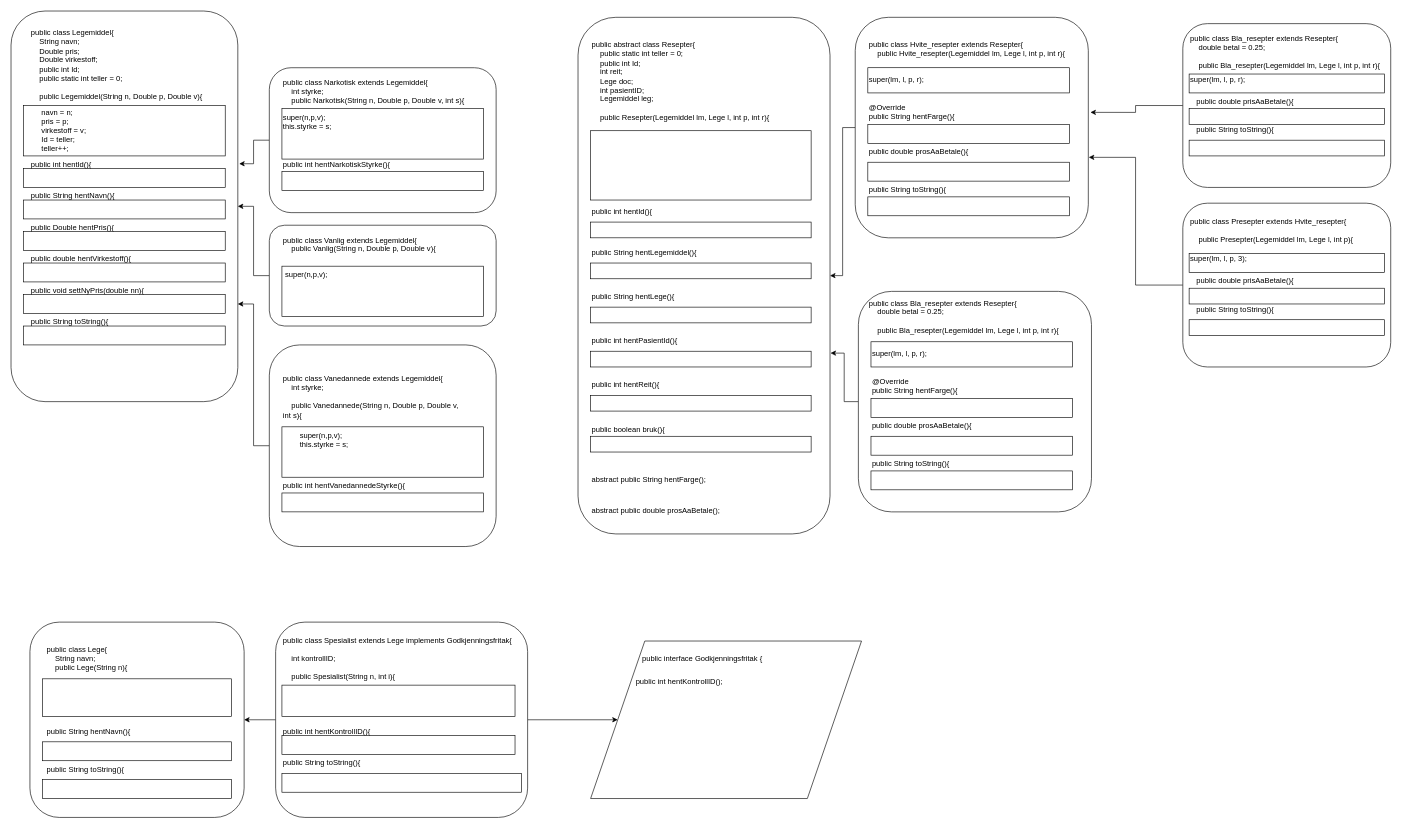
This 1408x828 diagram has some shape labels left out. Here are the shapes that lost their labels. From the top down, the centre of each, then its label:
pixel 700 165: reit = r; Id = teller; teller++; doc = l; pasientID = p; leg = lm;
pixel 137 697: navn = n;
pixel 398 700: super(n); kontrollID = i;
